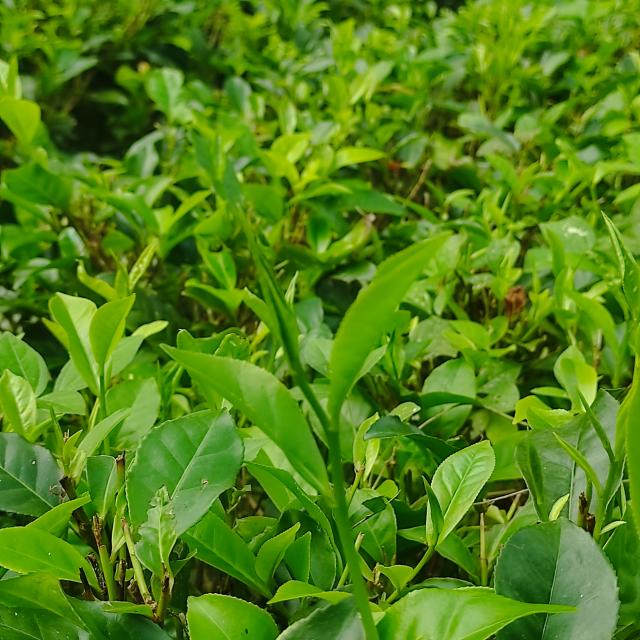unopened_leaf: (254, 256, 312, 388), (550, 425, 604, 500), (573, 386, 618, 470), (416, 469, 447, 548), (106, 243, 132, 290), (47, 402, 68, 458)
